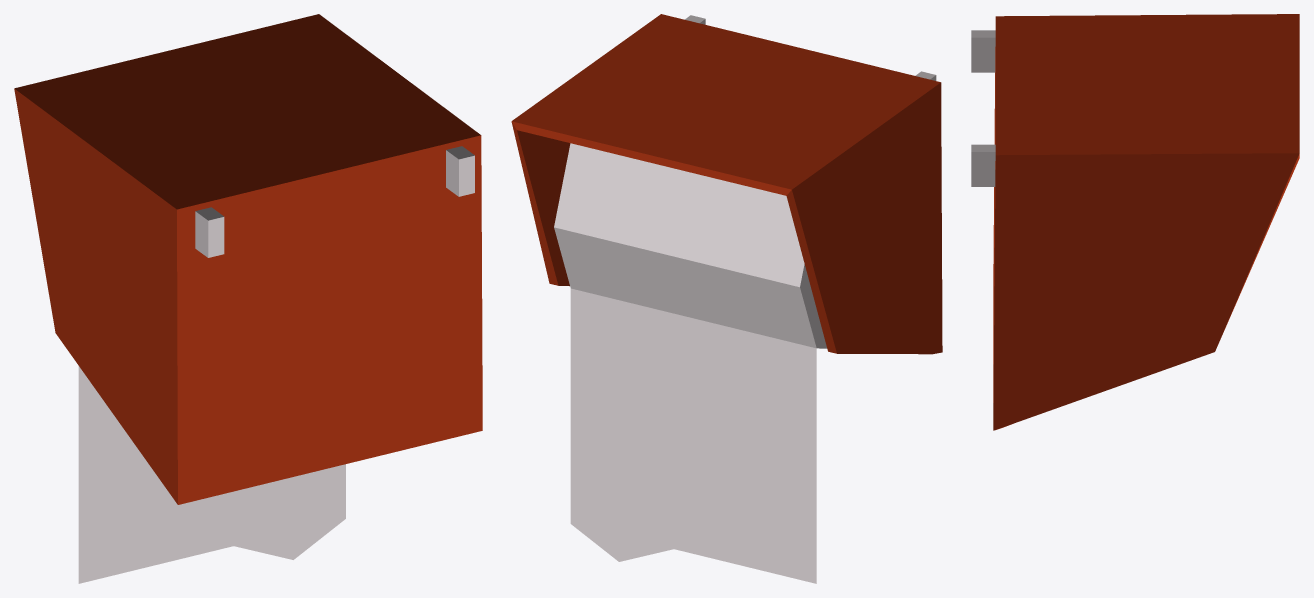
The model's file is Toilet Paper Holder 1.fbx.
3 views of the same model, side by side, from view 1: azimuth 30°, elevation 25°; view 2: azimuth 150°, elevation 25°; view 3: azimuth 270°, elevation 25° (orthographic). The views are drawn at different scales.
Visible parts, largest first — view 1: Node 0; view 2: Node 0; view 3: Node 0.
Boxes of the visible parts, x1,y1,x2,y2 form: Node 0: (14, 14, 482, 583); Node 0: (511, 14, 942, 583); Node 0: (971, 14, 1299, 430).
Bounding box in the file's own units: 0.2341 × 0.3645 × 0.2408.
